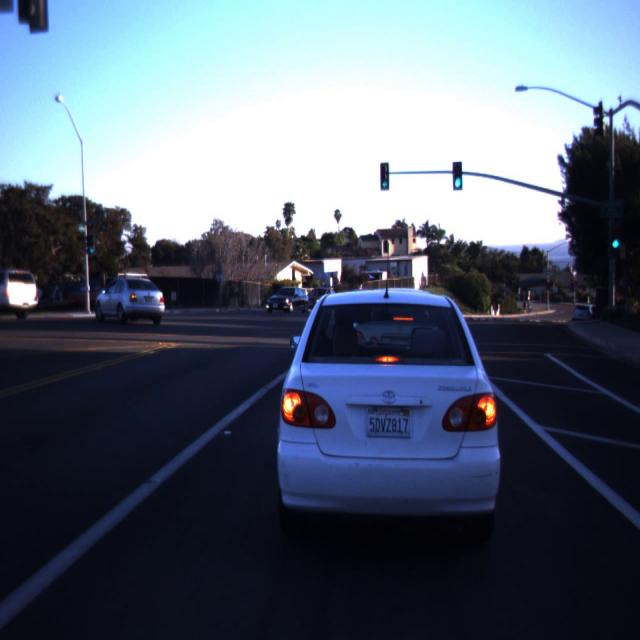yesil: (452, 162, 462, 190), (380, 162, 389, 190)
